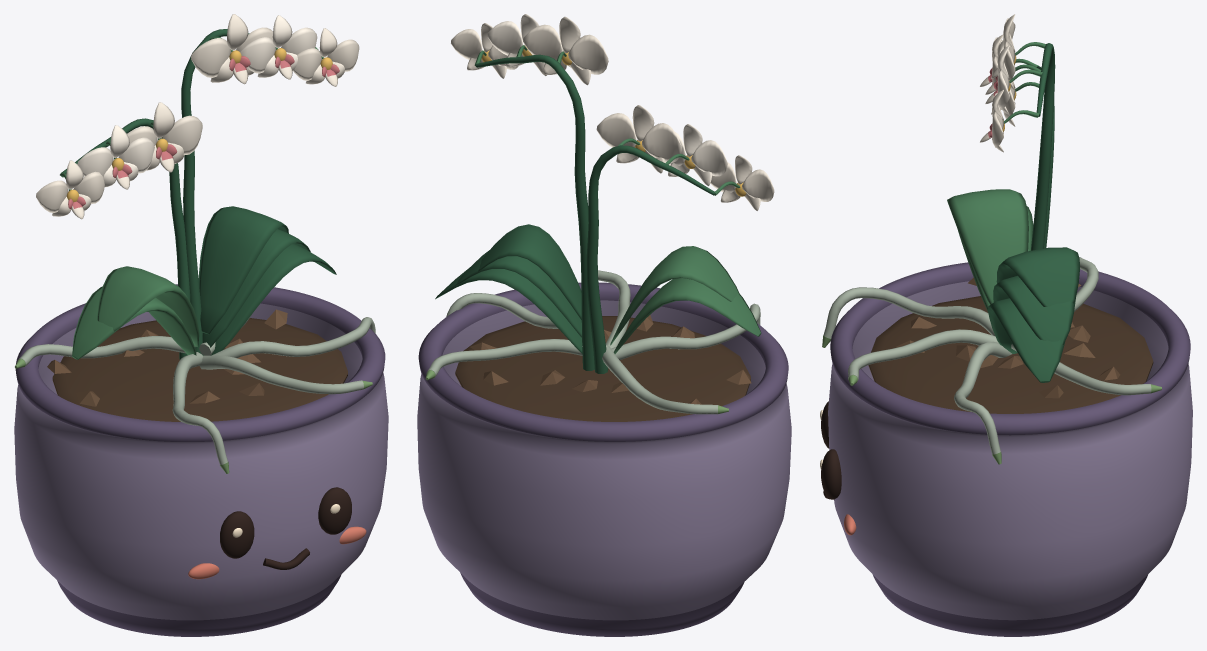
Rendered from moth-orchid-v1.glb.
3 views of the same model, side by side, from view 1: azimuth 30°, elevation 25°; view 2: azimuth 150°, elevation 25°; view 3: azimuth 270°, elevation 25° (orthographic). The views are drawn at different scales.
Parts seen in each view (by area): view 1: Wheel-thrown ceramic, Foliage draw mesh, Soil, Eye, Eye.001; view 2: Wheel-thrown ceramic, Foliage draw mesh, Soil; view 3: Wheel-thrown ceramic, Foliage draw mesh, Soil, Eye.001.
Part boxes in pixels (x1,y1,x2,y2): Wheel-thrown ceramic: [14, 284, 388, 636]; Foliage draw mesh: [15, 14, 375, 473]; Soil: [52, 318, 347, 421]; Eye: [220, 511, 254, 558]; Eye.001: [318, 487, 351, 534]; Wheel-thrown ceramic: [417, 282, 791, 636]; Foliage draw mesh: [425, 14, 774, 414]; Soil: [455, 316, 750, 421]; Wheel-thrown ceramic: [828, 262, 1192, 636]; Foliage draw mesh: [822, 14, 1161, 464]; Soil: [868, 296, 1153, 413]; Eye.001: [821, 449, 841, 499].
Bounding box in the file's own units: 1.65 × 2.64 × 1.53.
